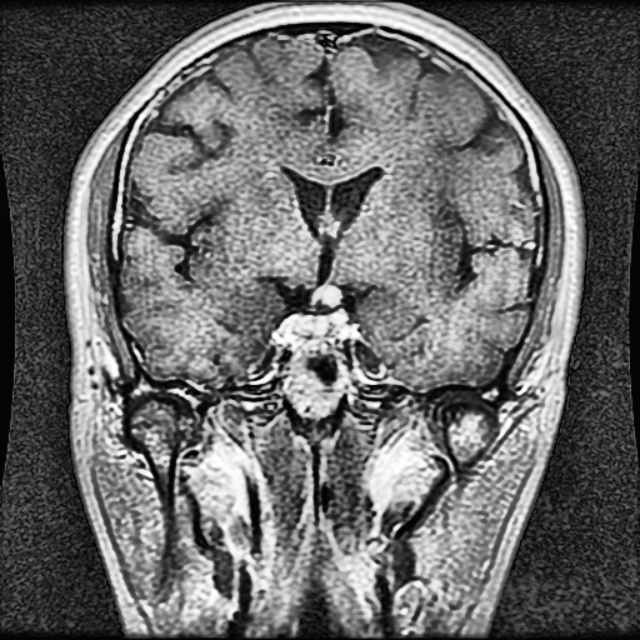Pituitary: (292, 284, 347, 333)
